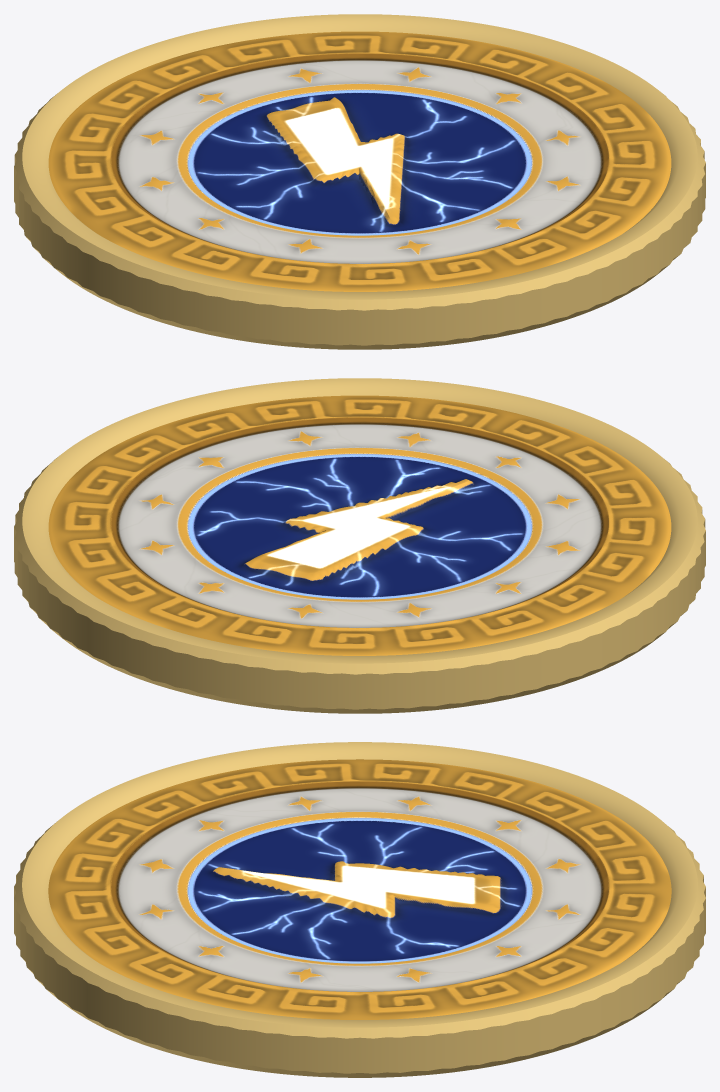
The model's file is coin_celestial.fbx.
3 views of the same model, one above another, from view 1: azimuth 30°, elevation 25°; view 2: azimuth 150°, elevation 25°; view 3: azimuth 270°, elevation 25° (orthographic).
Visible parts, largest first — view 1: coin_celestial; view 2: coin_celestial; view 3: coin_celestial.
Boxes of the visible parts, box(x1,y1,x2,y2) form: coin_celestial: box(14, 14, 705, 349); coin_celestial: box(14, 378, 705, 713); coin_celestial: box(14, 742, 705, 1077).
Size of the model in its own units: 0.9992 by 0.08 by 0.9992.
